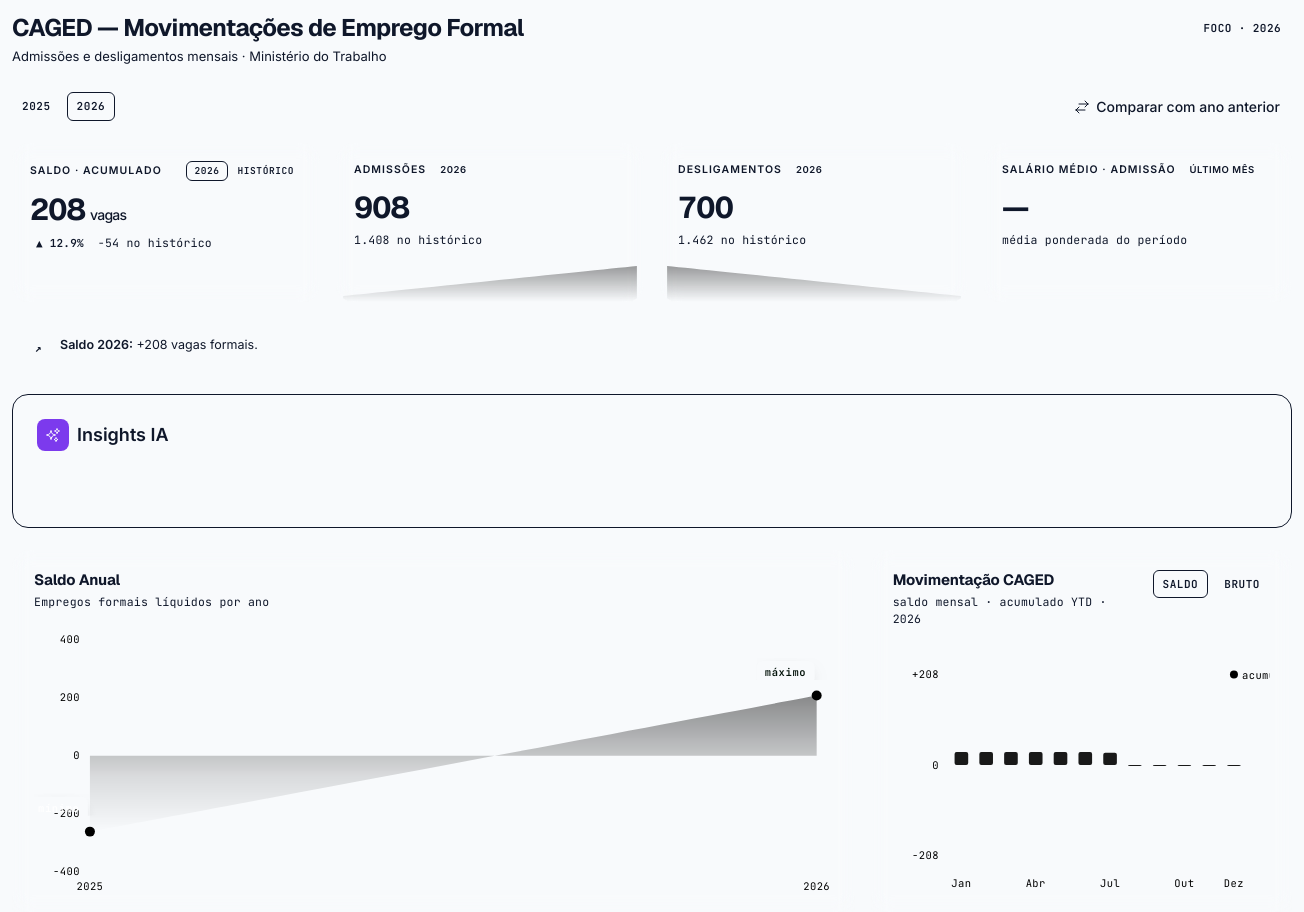
Test case: CagedPage — KPI Saldo segue o ano em foco › selecionar 2025 nas abas de ano muda o saldo (−262) e o badge de Admissões/Desligamentos
The image size is (1304, 912).
Expected: the text "Saldo · Acumulado" is shown, [30, 163, 162, 179]
Click the button "2025" at coordinates (36, 107), box [12, 92, 61, 121]
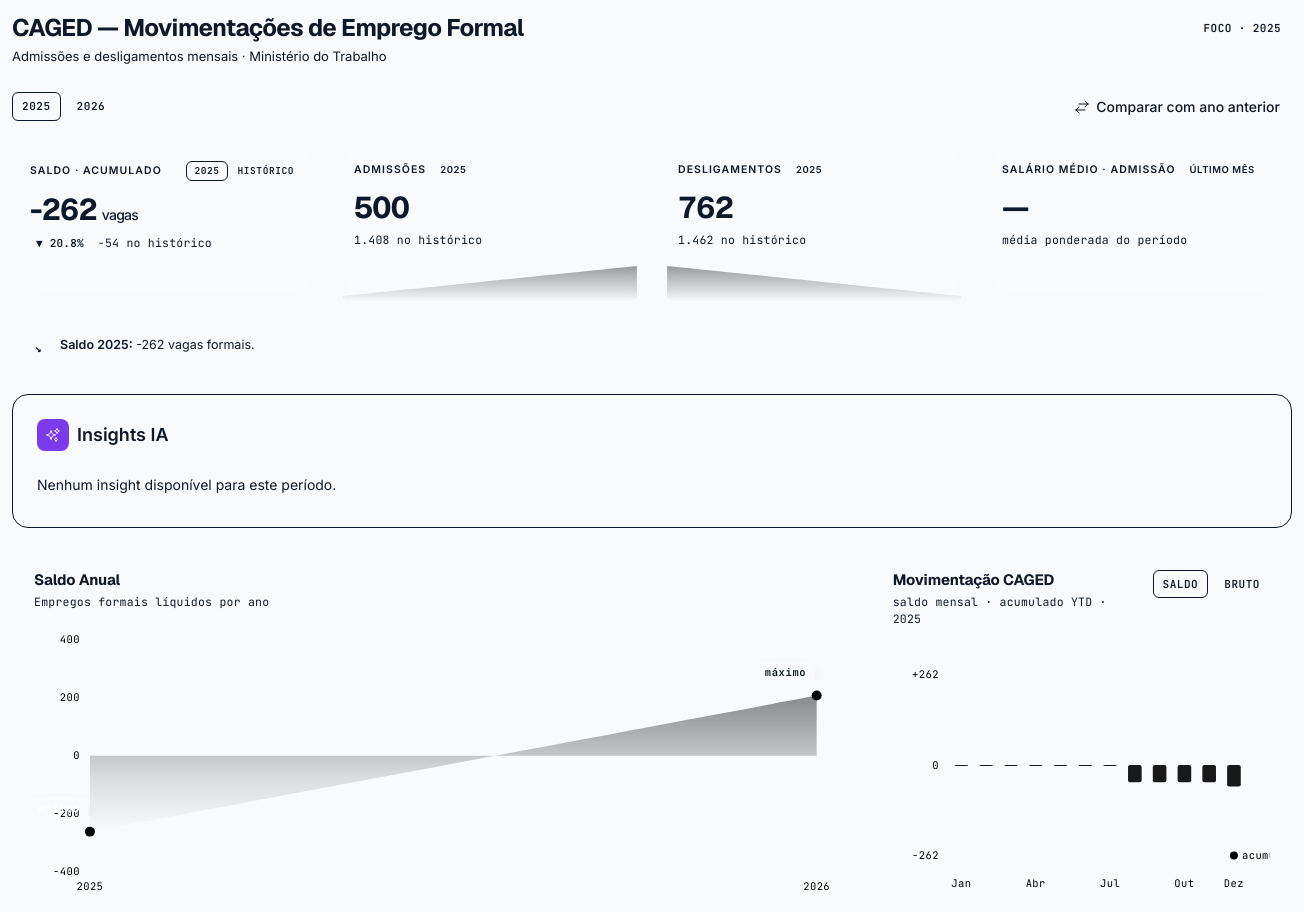
Expected: the element with class "nid-kpi-value" shows "-262", [30, 190, 97, 229]
Expected: the 1st text with class "nid-badge" reads "2025", [440, 164, 466, 174]
Expected: the 2nd text with class "nid-badge" reads "2025", [796, 164, 822, 174]
